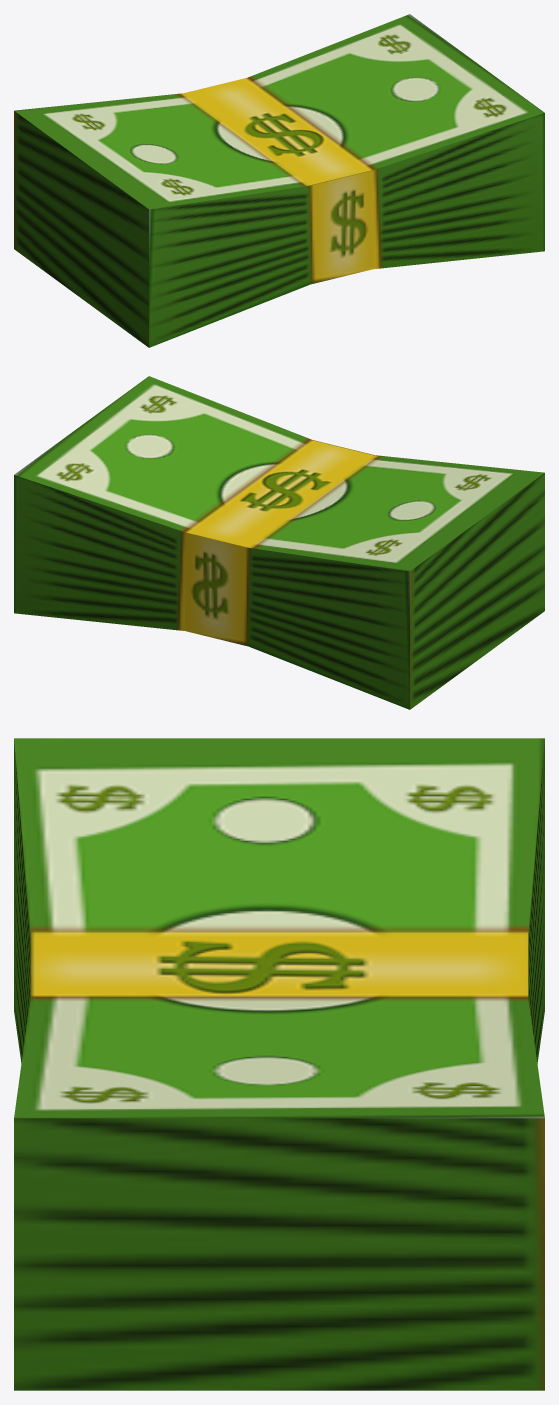
The model's file is packOfBills.fbx.
3 renders of one model, top to bottom at view 1: azimuth 30°, elevation 25°; view 2: azimuth 150°, elevation 25°; view 3: azimuth 270°, elevation 25°, orthographic. The views are drawn at different scales.
Parts seen in each view (by area): view 1: stack; view 2: stack; view 3: stack.
Part boxes in pixels (left/top/right/bottom): stack: left=14, top=14, right=544, bottom=347; stack: left=14, top=376, right=544, bottom=709; stack: left=14, top=738, right=544, bottom=1390.
Size of the model in its own units: 51.58 by 17.24 by 30.47.
